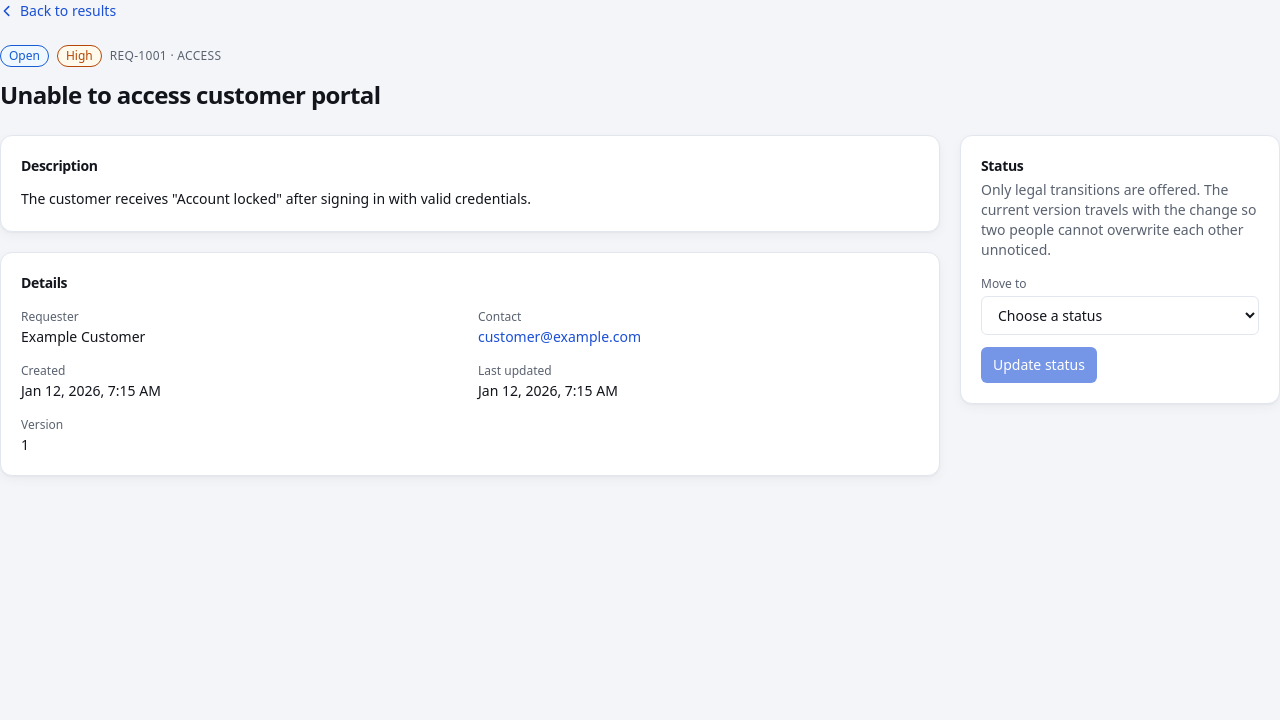
Test: status transitions › shows the server message for a forbidden transition
Select "Closed" in the dropdown labelled "Move to" at (1120, 316), box [981,296,1259,335]
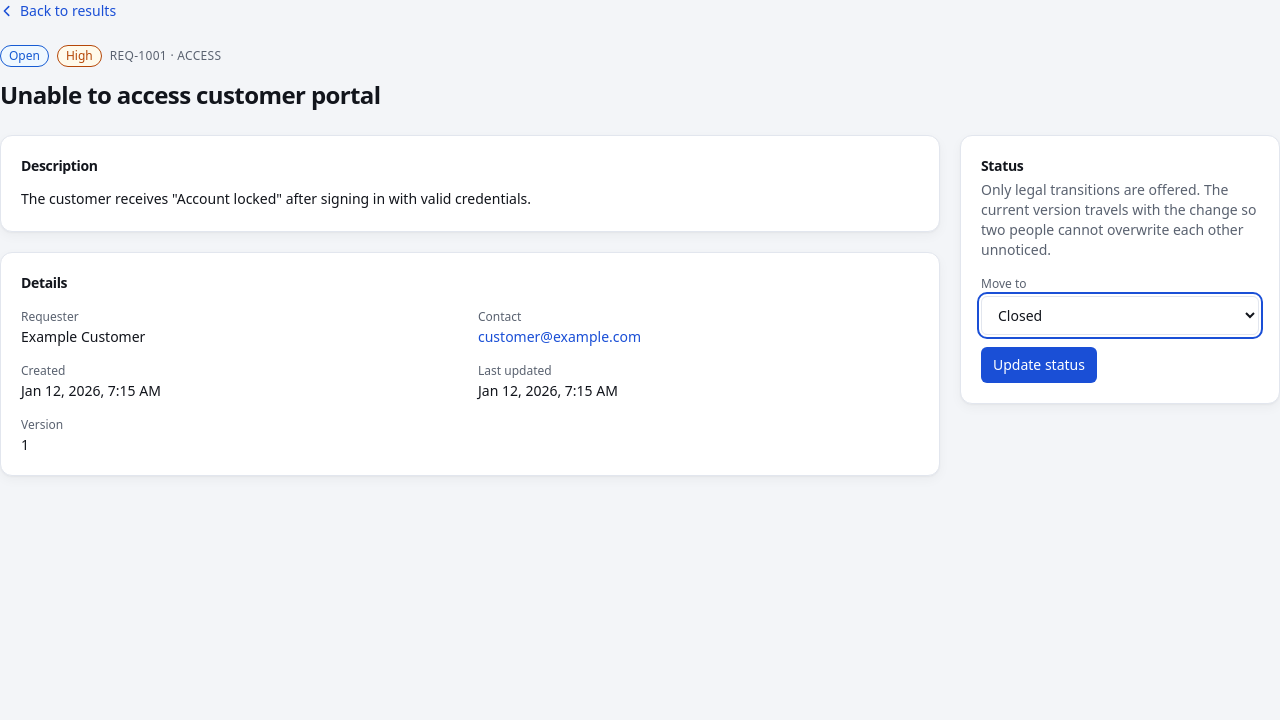
Click the button "Update status" at (1039, 365), box [981,347,1097,383]
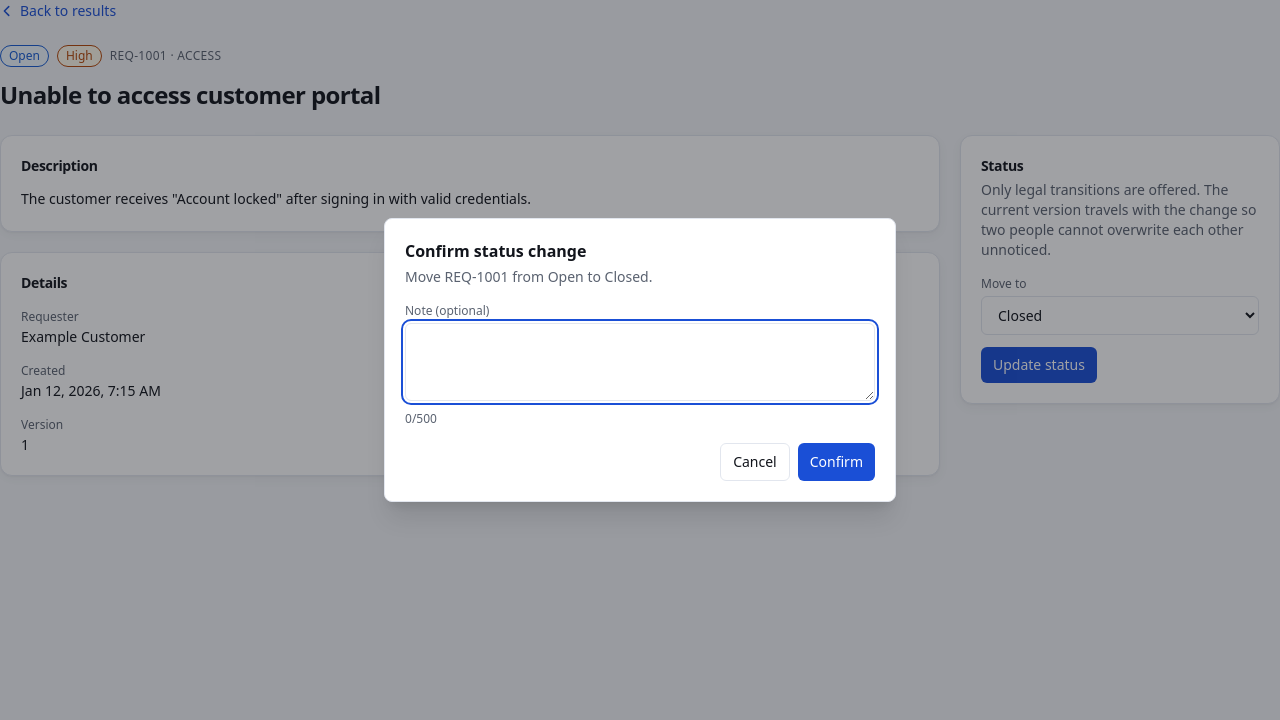
Click the button "Confirm" at (836, 462), box [798,443,875,481]
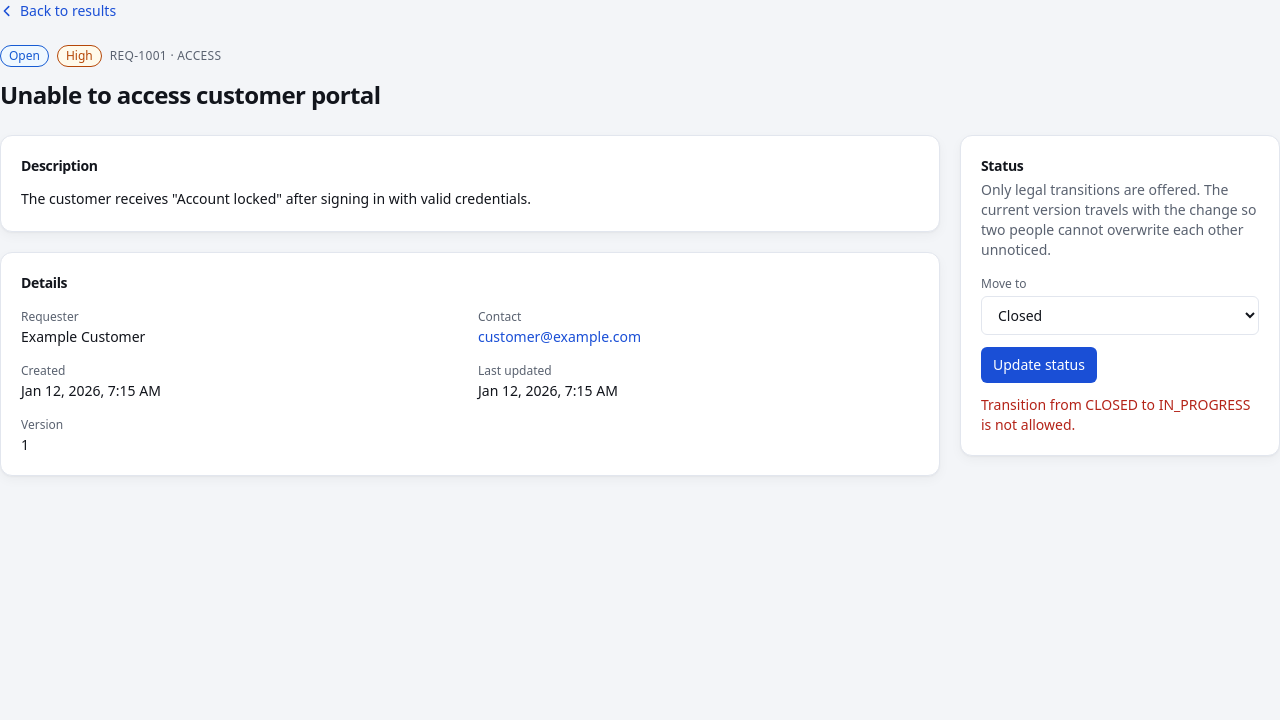
expect the text "Transition from CLOSED to IN_PROGRESS is not allowed." is shown: met, box [981,395,1259,435]
